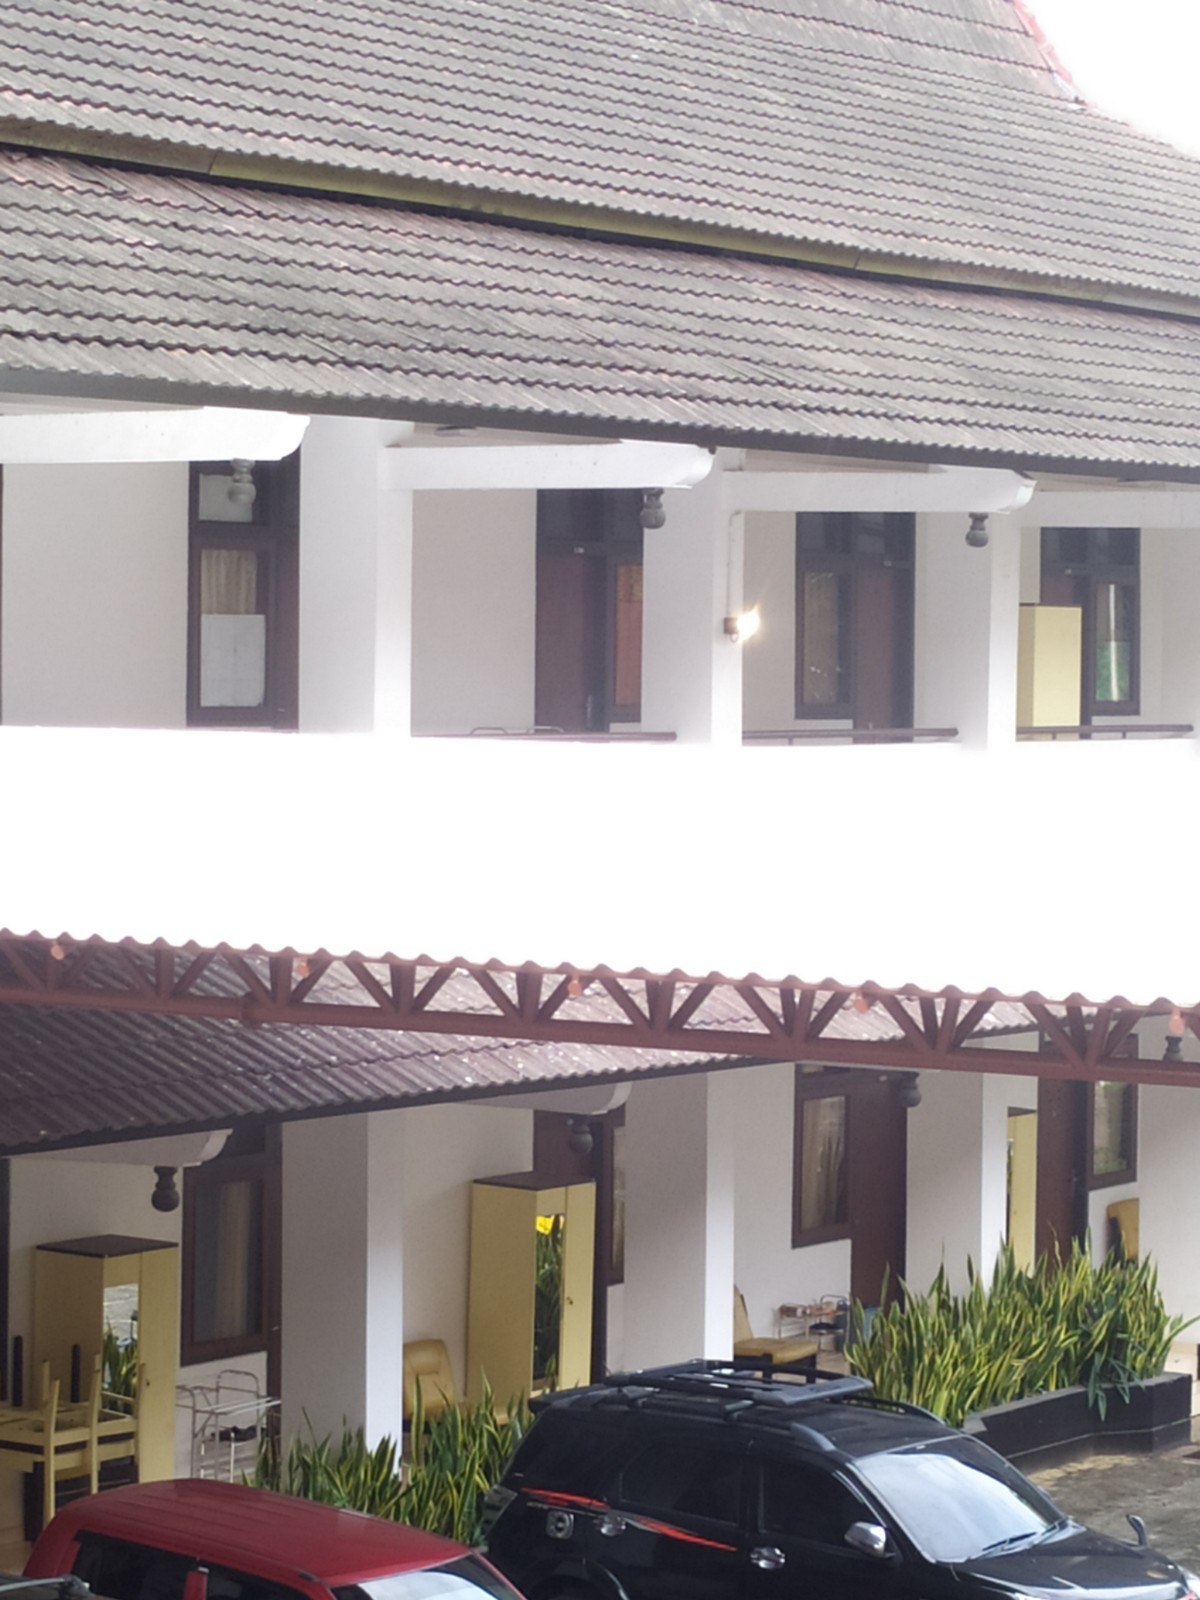concrete column: (267, 1105, 422, 1498), (610, 1073, 751, 1364), (287, 455, 425, 745), (630, 477, 754, 750), (906, 506, 1029, 750), (897, 1075, 1017, 1306)
